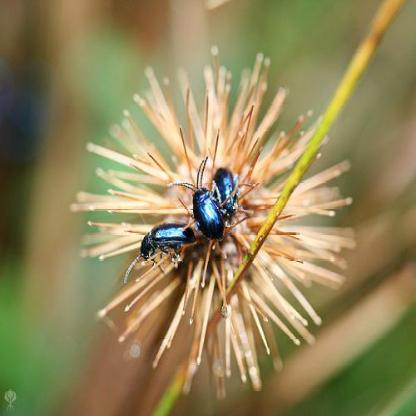beetle: (182, 166, 224, 244), (135, 216, 194, 269), (211, 164, 248, 217)
